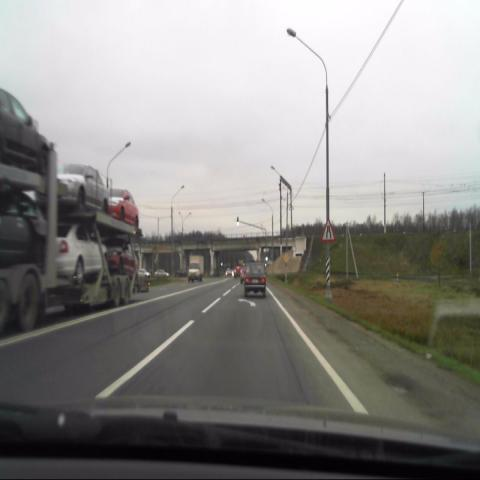1_20: (321, 219, 335, 242)
